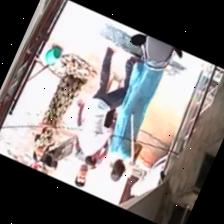person: (78, 47, 137, 166), (109, 61, 163, 180), (33, 74, 85, 160), (74, 136, 95, 186)
